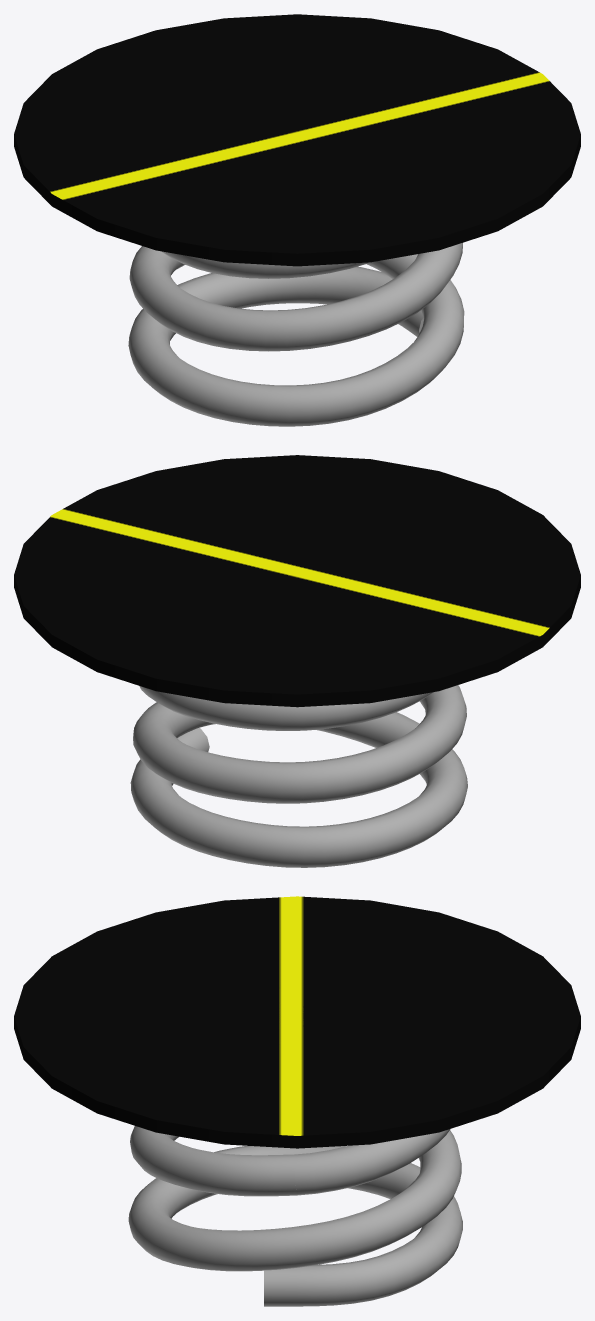
The model's file is spring board.fbx.
3 renders of one model, top to bottom at view 1: azimuth 30°, elevation 25°; view 2: azimuth 150°, elevation 25°; view 3: azimuth 270°, elevation 25°, orthographic.
Visible parts, largest first — view 1: spb, sp1, sp2; view 2: spb, sp1, sp2; view 3: spb, sp1, sp2.
Boxes of the visible parts, left/top/right/bottom form: spb: left=14, top=14, right=580, bottom=266; sp1: left=128, top=243, right=464, bottom=426; sp2: left=161, top=251, right=370, bottom=278; spb: left=14, top=455, right=580, bottom=707; sp1: left=130, top=685, right=467, bottom=867; sp2: left=139, top=686, right=433, bottom=730; spb: left=14, top=896, right=580, bottom=1148; sp1: left=128, top=1126, right=462, bottom=1306; sp2: left=295, top=1129, right=450, bottom=1195.
Size of the model in its own units: 124 by 55.02 by 124.
